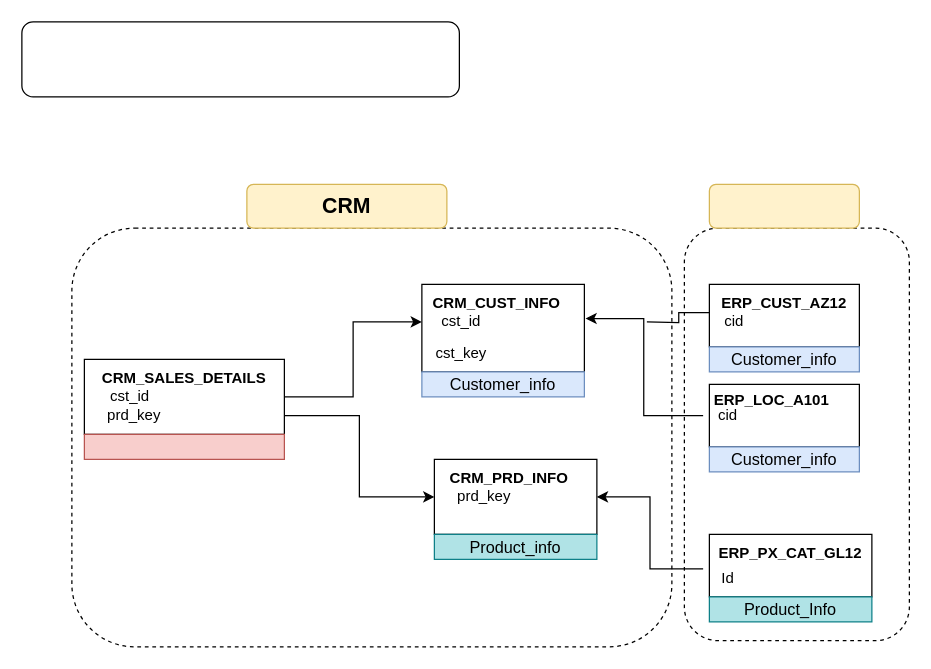
Image size: 931x669. Some labels were removed from this diagram. The shapes that lost their labels are listed below. From the top down, each one's centre as x and y in pixels, then its label:
At pixel 240 59: "INTEGRATION MODE L (How Tables Are connected)".
At pixel 783 205: "ERP".
At pixel 183 446: "Sales".
